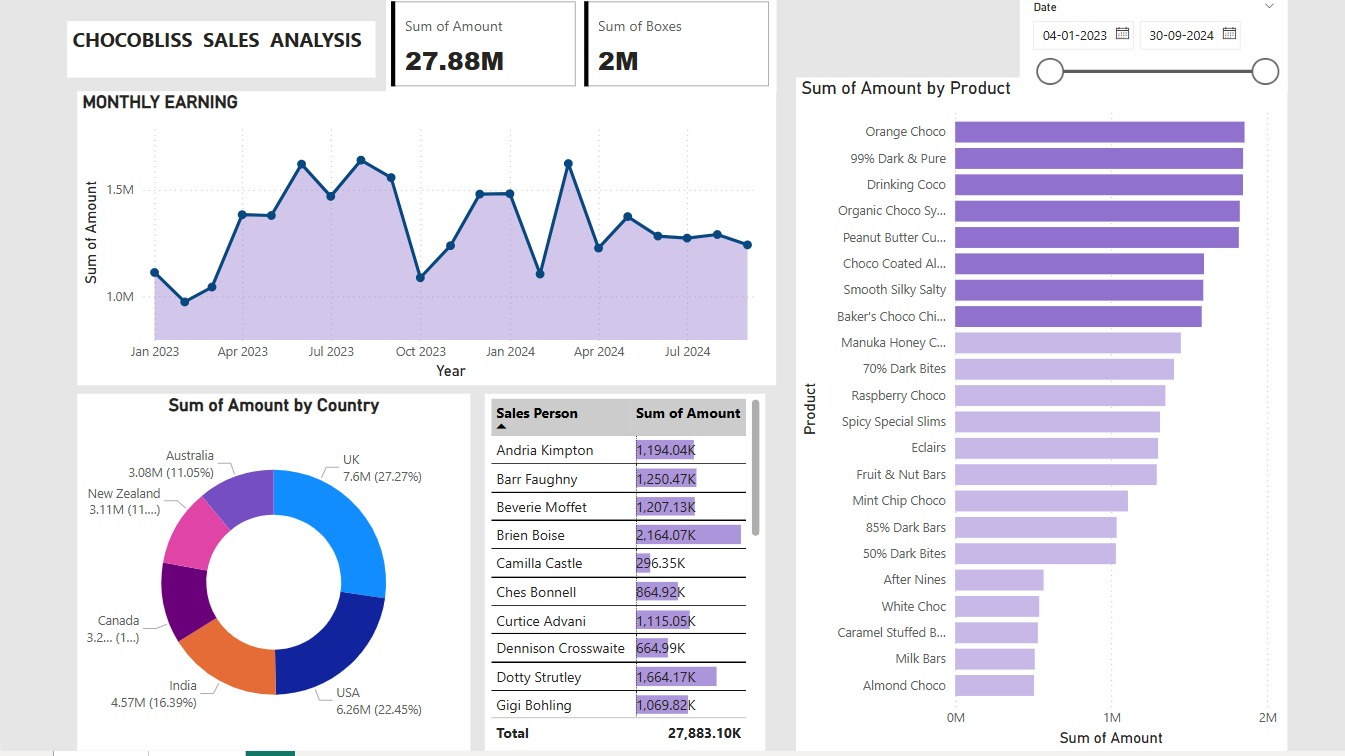

What the dashboard file says about the page in this screenshot:
{"tool":"powerbi","page":{"name":"Page 2","canvas":[1280,720],"ordinal":1},"visuals":[{"type":"lineChart","title":"MONTHLY EARNING","fields":{"Category":["data.Date.Variation.Date Hierarchy.Year","data.Date.Variation.Date Hierarchy.Quarter","data.Date.Variation.Date Hierarchy.Month","data.Date.Variation.Date Hierarchy.Day"],"Y":["data.Amount"]},"box":[72.7,91.9,665.5,279.9],"z":0},{"type":"donutChart","fields":{"Category":["data.Country"],"Y":["data.Amount"]},"box":[72.7,380.1,374.6,340.3],"z":1000},{"type":"tableEx","fields":{"Values":["data.Sales Person","data.Amount"]},"box":[461.1,380.1,267.6,340.3],"z":2000},{"type":"barChart","fields":{"Category":["data.Product"],"Y":["data.Amount"]},"box":[757.5,78.2,467.9,642.2],"z":3000},{"type":"cardVisual","fields":{"Data":["data.Amount","data.Boxes"]},"box":[366.4,1.4,371.9,91.9],"z":4000},{"type":"slicer","fields":{"Values":["data.Date"]},"box":[970.2,0,255.2,91.9],"z":5000},{"type":"textbox","box":[63.1,24.7,293.7,53.5],"z":6000}]}

Visuals, with their boxes in screenshot pixels (x1, y1, x2, y2), scaled from the page's 1280x720 canvas onto the 1345x756 screenshot:
"MONTHLY EARNING" lineChart: bbox(76, 96, 776, 390)
donutChart - data.Country x data.Amount: bbox(76, 399, 470, 755)
tableEx - data.Sales Person x data.Amount: bbox(485, 399, 766, 755)
barChart - data.Product x data.Amount: bbox(796, 82, 1288, 755)
cardVisual - data.Amount x data.Boxes: bbox(385, 1, 776, 98)
slicer - data.Date: bbox(1019, 0, 1288, 96)
textbox: bbox(66, 26, 375, 82)
